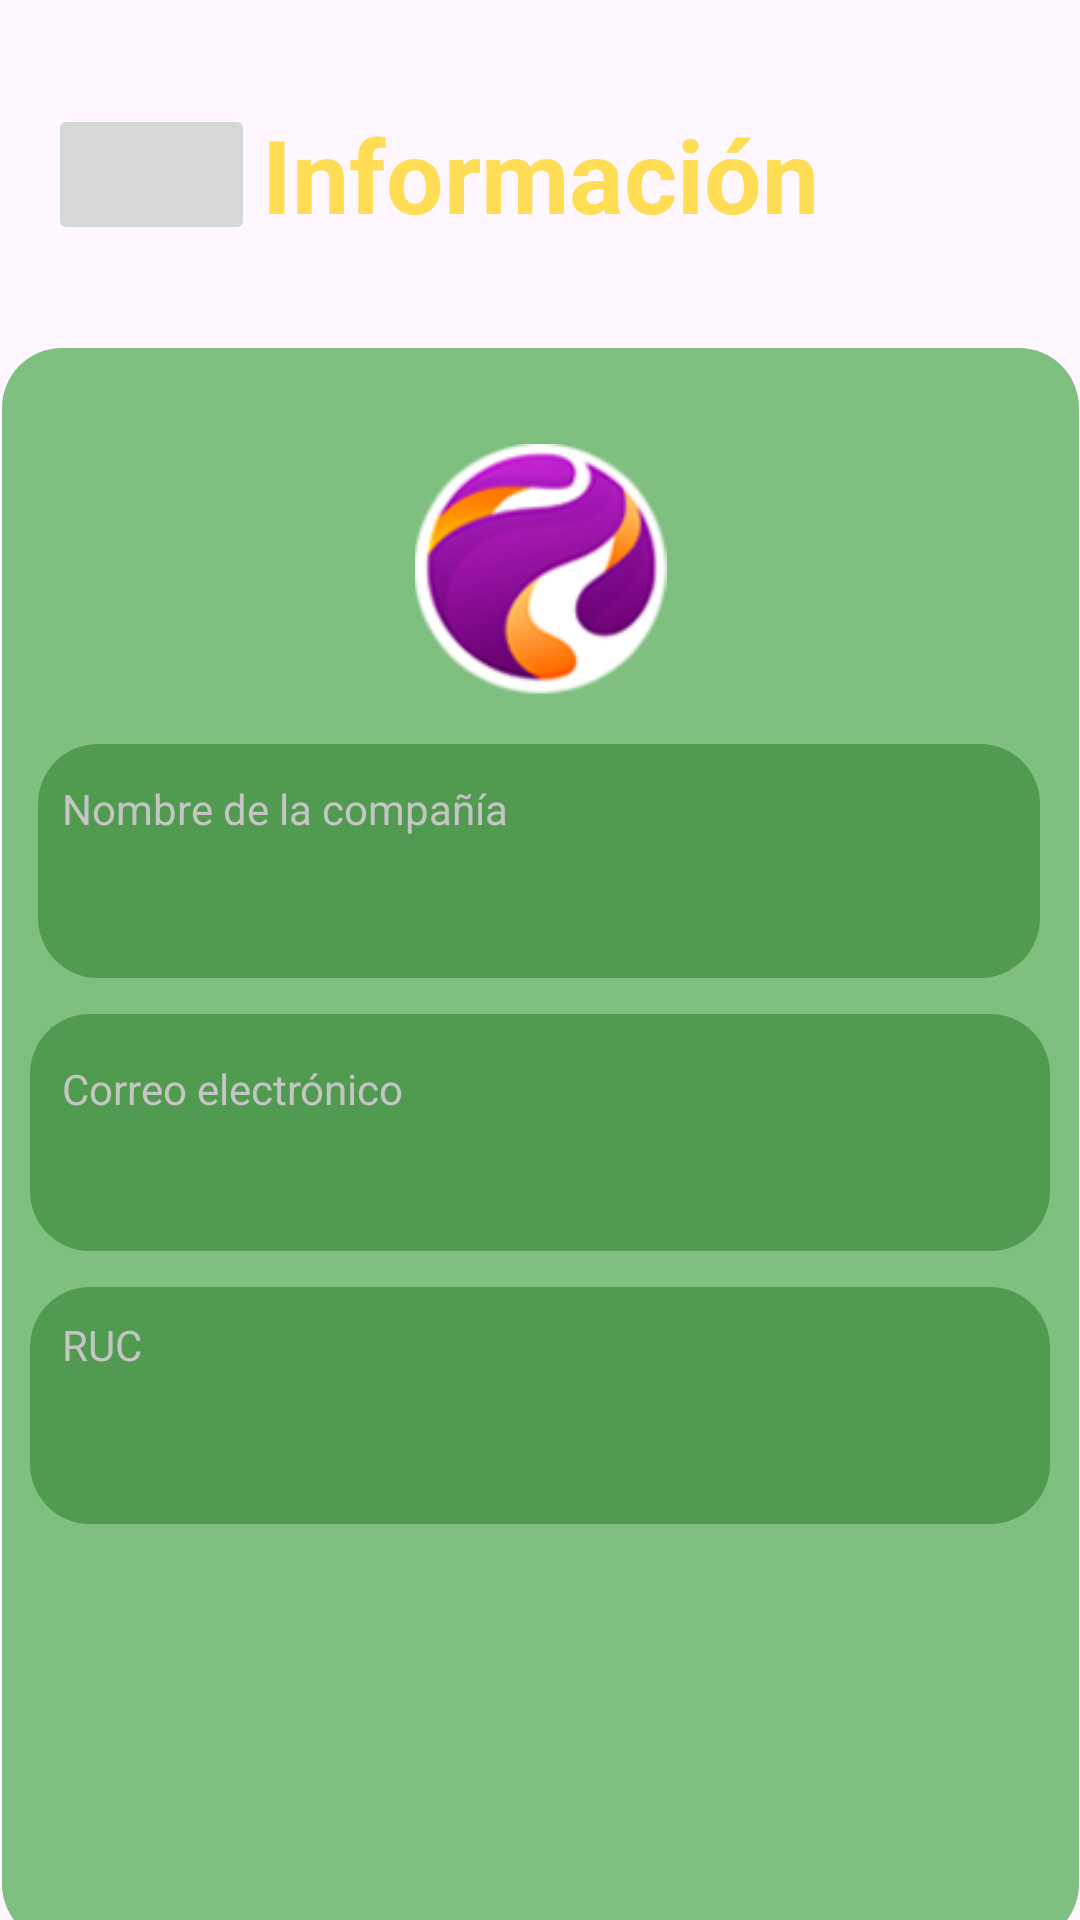

Screen size 1080px×1920px. Icon name, then its box in pixels as [left=x1, top=y1, right=x2, bottom=y2]:
generic company: [left=415, top=444, right=667, bottom=694]
